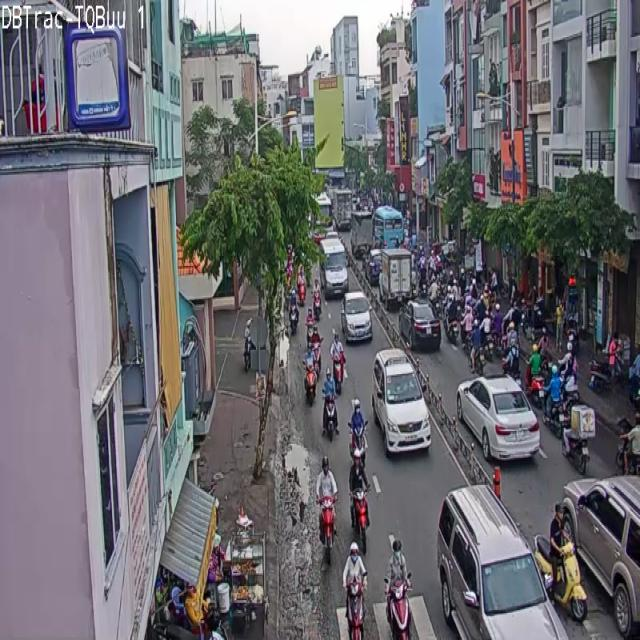car: (344, 542, 366, 639), (386, 579, 410, 639), (351, 491, 369, 550), (349, 400, 366, 461), (350, 449, 368, 488), (321, 503, 334, 552), (323, 400, 336, 437), (306, 364, 316, 405)
traffic-light: (436, 485, 568, 639), (457, 375, 540, 459), (371, 348, 430, 454), (398, 300, 439, 348), (341, 293, 372, 341)
